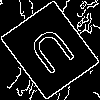U: (25, 25, 84, 84)
